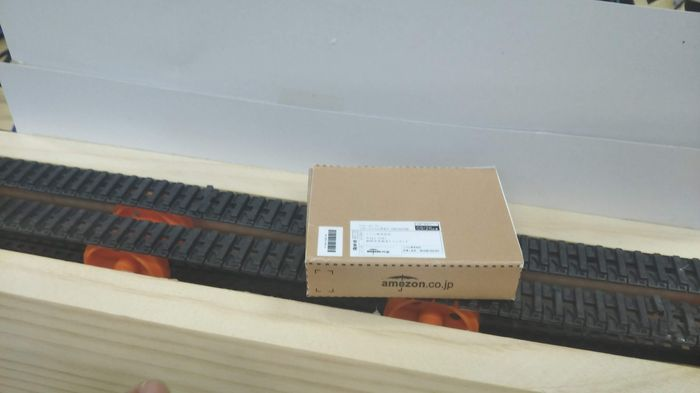box2: (302, 158, 525, 308)
